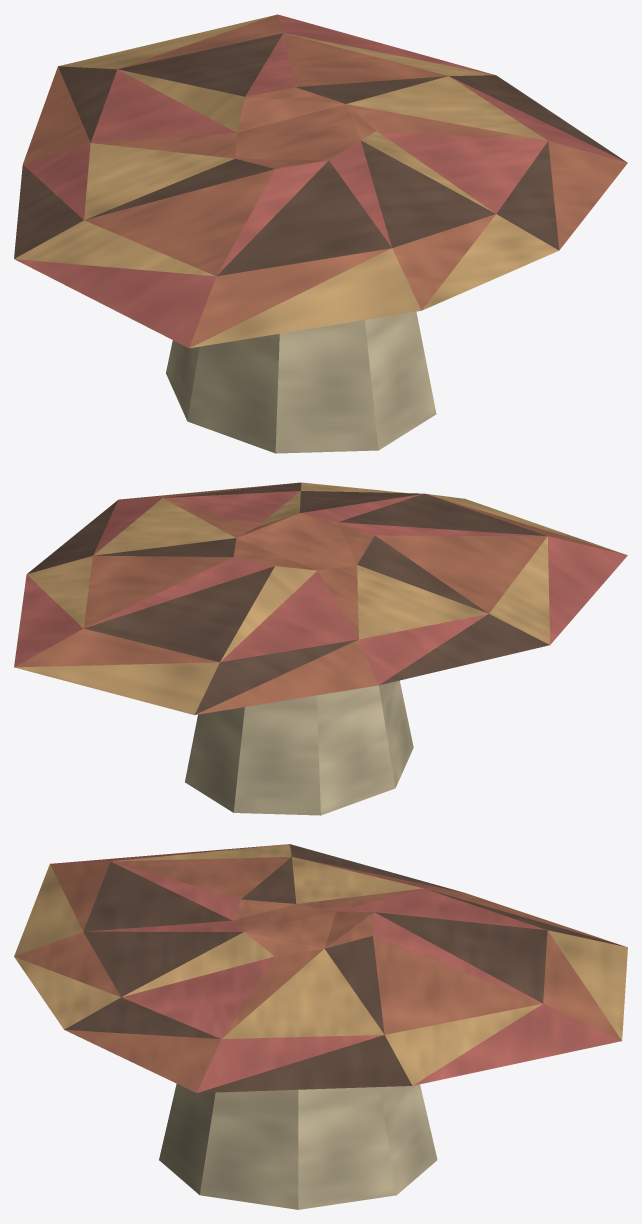
The model's file is mushroom_small_set_01.fbx.
3 views of the same model, one above another, from view 1: azimuth 30°, elevation 25°; view 2: azimuth 150°, elevation 25°; view 3: azimuth 270°, elevation 25° (orthographic). The views are drawn at different scales.
Parts seen in each view (by area): view 1: mushroom_small_set_01; view 2: mushroom_small_set_01; view 3: mushroom_small_set_01.
Part boxes in pixels (<box>): mushroom_small_set_01: <box>14,14,627,453</box>; mushroom_small_set_01: <box>14,482,627,815</box>; mushroom_small_set_01: <box>14,844,627,1209</box>.
Bounding box in the file's own units: 21.84 × 10 × 23.
Materials: 1 (1 with a texture image).
